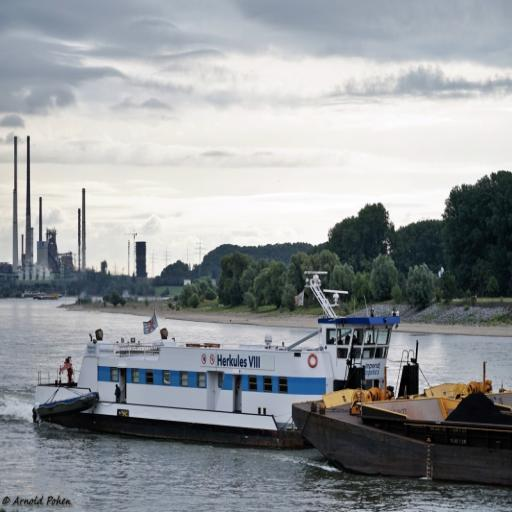tugboat: (30, 309, 427, 458)
